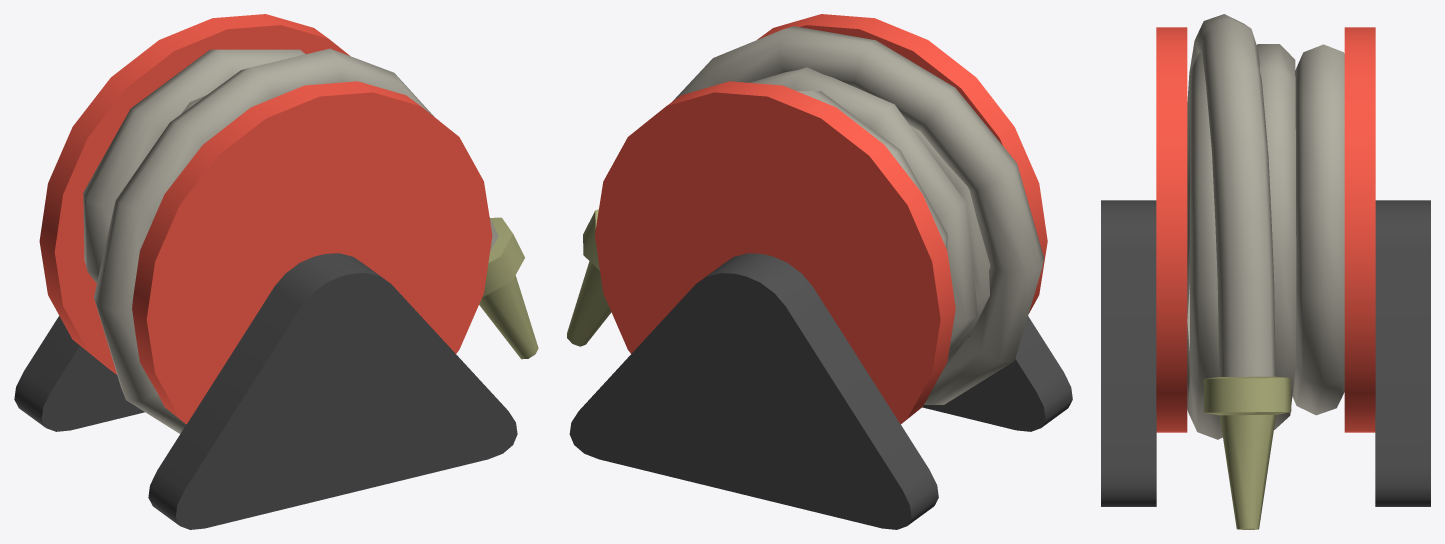
The model's file is Bobbin.fbx.
The picture shows the model from 3 angles, left to right: view 1: azimuth 30°, elevation 25°; view 2: azimuth 150°, elevation 25°; view 3: azimuth 270°, elevation 25°; orthographic projection. The views are drawn at different scales.
Visible parts, largest first — view 1: Bobbin; view 2: Bobbin; view 3: Bobbin.
Part boxes in pixels (x1,y1,x2,y2): Bobbin: (14,14,538,529); Bobbin: (567,14,1072,529); Bobbin: (1101,14,1430,529).
Bounding box in the file's own units: 1.31 × 1.06 × 0.8035.
